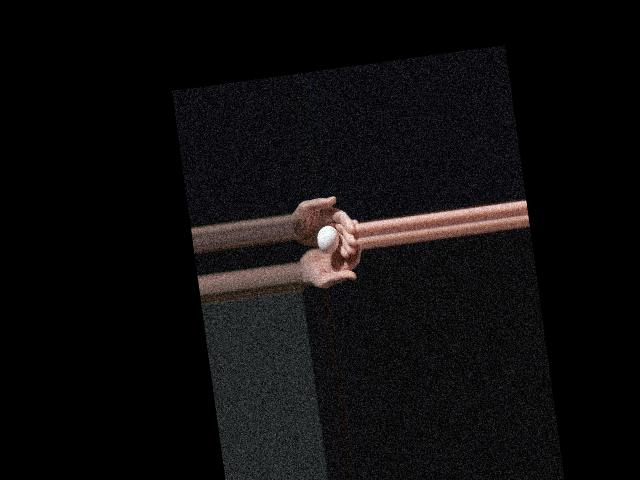egg: (315, 223, 341, 255)
